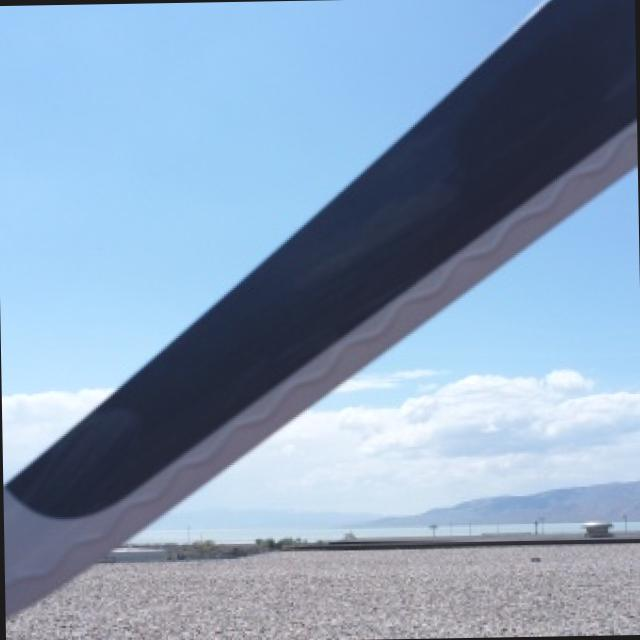healthy: (5, 0, 632, 611)
